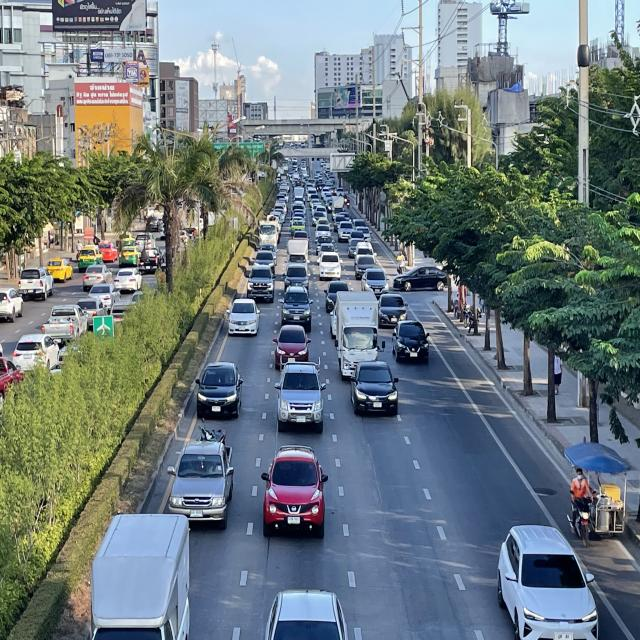bike: (567, 438, 631, 546)
car: (495, 520, 599, 640), (260, 439, 330, 543), (166, 423, 235, 528), (264, 585, 348, 640), (274, 360, 327, 436), (194, 360, 243, 421), (350, 360, 401, 416), (391, 319, 431, 364), (280, 284, 313, 330), (274, 323, 311, 364), (226, 297, 261, 338), (246, 263, 276, 304), (378, 290, 408, 328)
truck: (87, 511, 190, 640), (331, 289, 385, 381)
